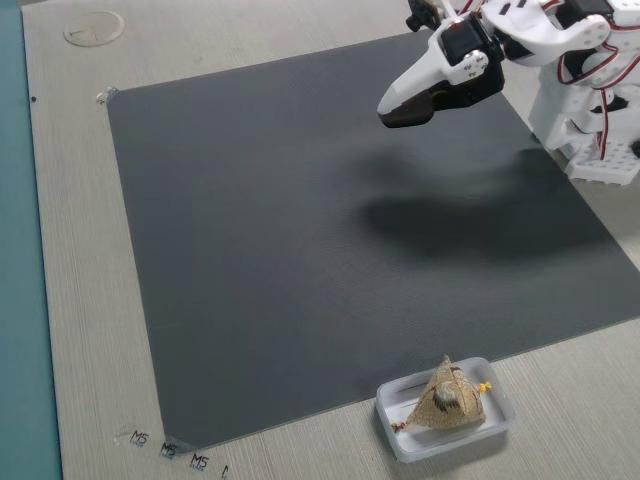gripper: (364, 1, 501, 133)
